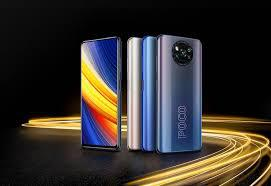Smartphone: (159, 35, 204, 155), (80, 37, 120, 152), (141, 36, 157, 152), (129, 39, 140, 148)
